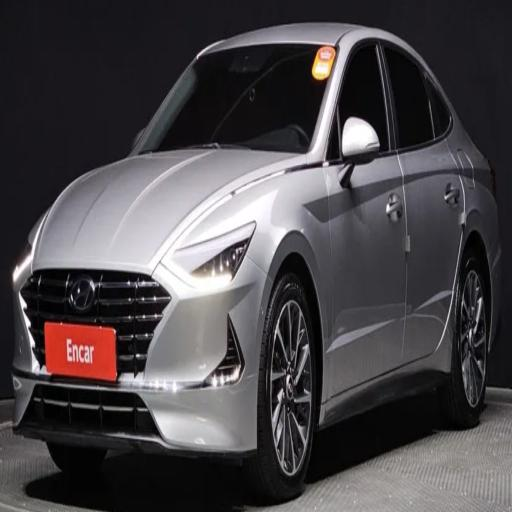normal: (17, 15, 507, 462)
